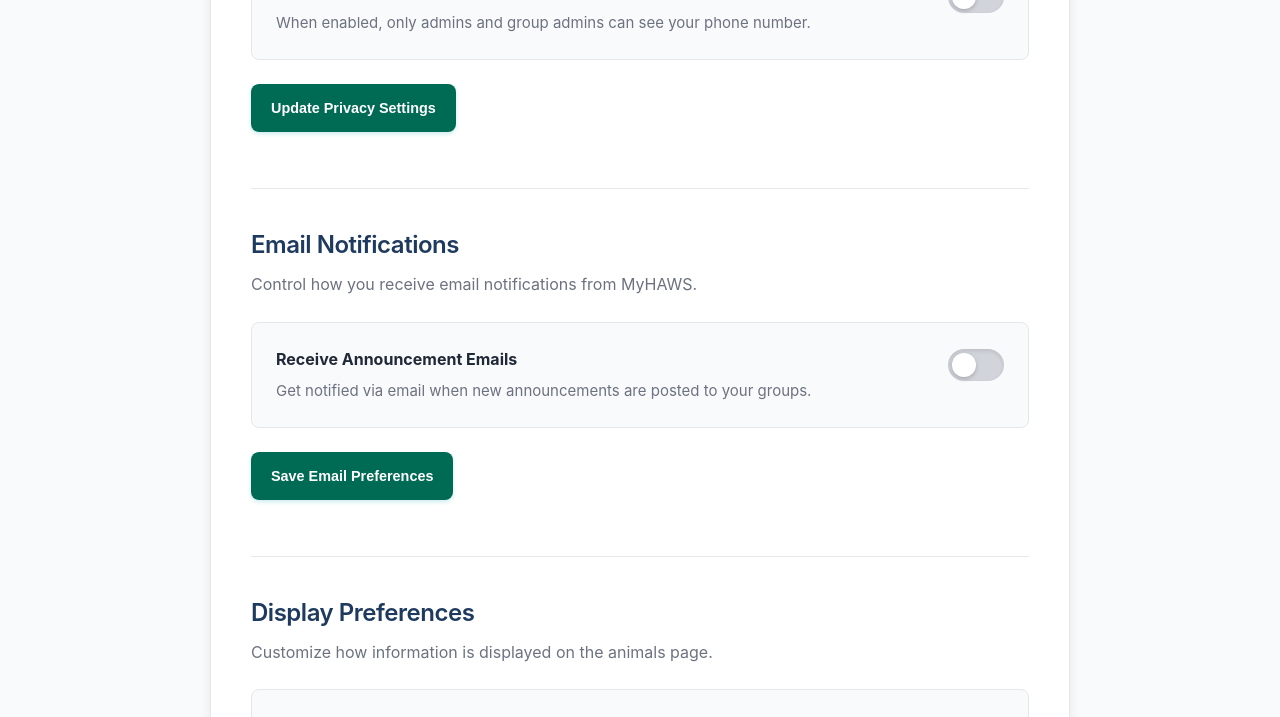
it: Settings › Saving preferences › should show error message when save fails
(page scrolled)
What coordinates should you click on to do the following:
click the checkbox labelled "Receive Announcement Emails"
I would click on:
 (397, 358)
Its box is [276, 348, 517, 368].
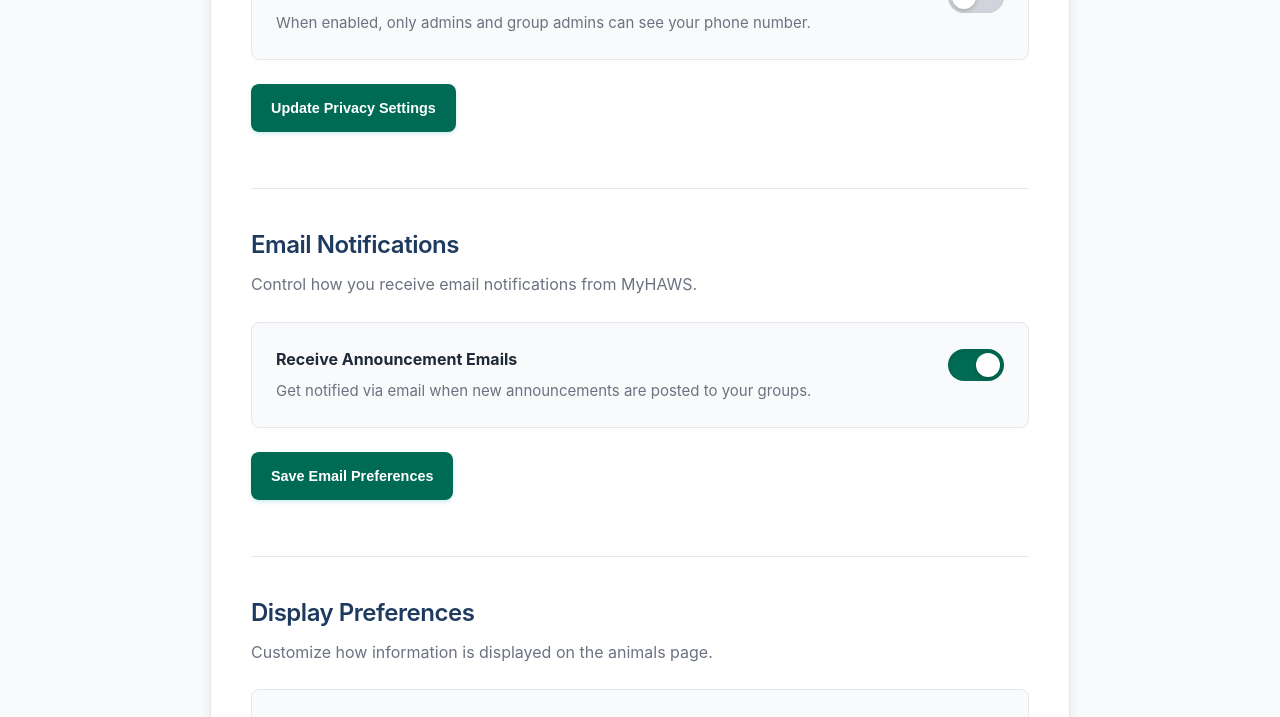
What coordinates should you click on to do the following:
click the button "Save Email Preferences"
I would click on:
 (352, 476)
Its box is [251, 452, 453, 500].
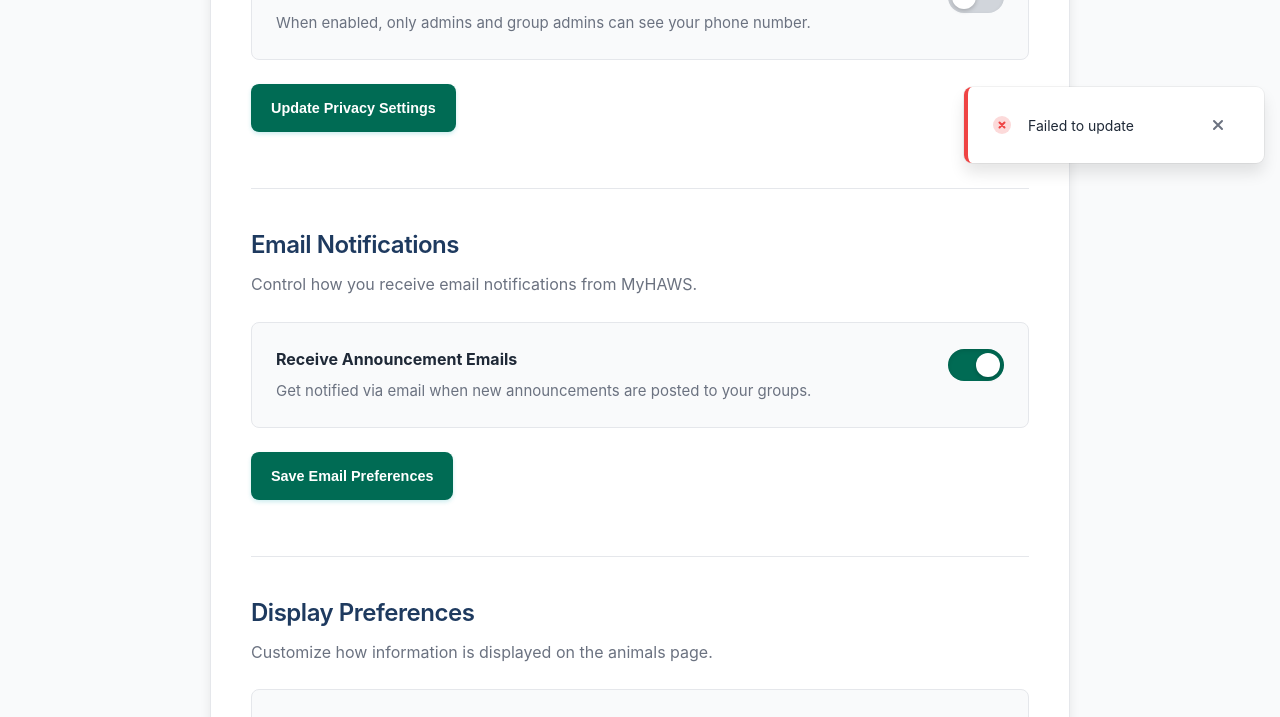
Check: the text "Failed to update" is shown, box [1028, 116, 1134, 134]
